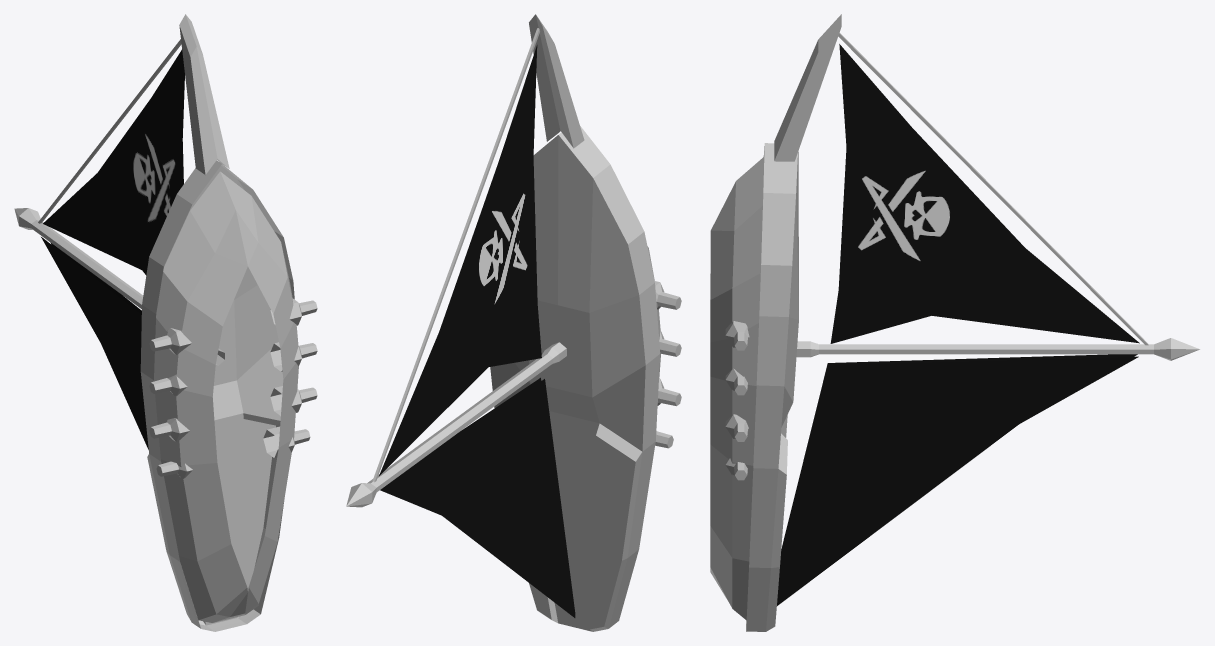
File: pirate_speed_my_3.fbx
3 views of the same model, side by side, from view 1: azimuth 30°, elevation 25°; view 2: azimuth 150°, elevation 25°; view 3: azimuth 270°, elevation 25° (orthographic). The views are drawn at different scales.
Visible parts, largest first — view 1: Cube.232; view 2: Cube.232; view 3: Cube.232.
Boxes of the visible parts, x1=… form: Cube.232: x1=14, y1=14, x2=317, y2=631; Cube.232: x1=346, y1=14, x2=681, y2=631; Cube.232: x1=710, y1=14, x2=1199, y2=631.
Size of the model in its own units: 194 by 665 by 485.
